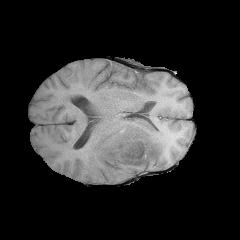glioma: (61, 119, 173, 182)
